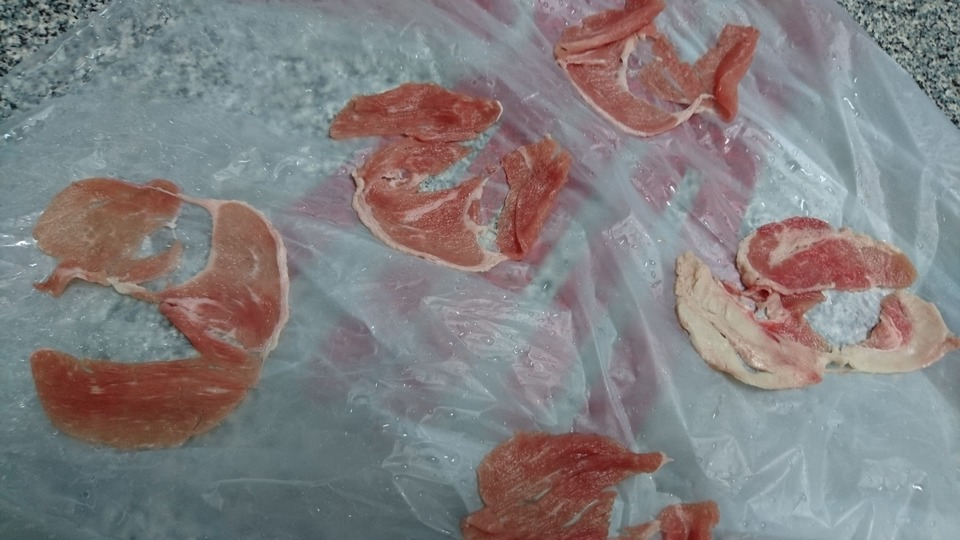restructured meat: (30, 178, 288, 453), (652, 208, 960, 394), (323, 76, 572, 267), (465, 424, 721, 540), (555, 1, 754, 129)
